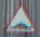Speed Breaker ahead: (3, 2, 39, 35)
